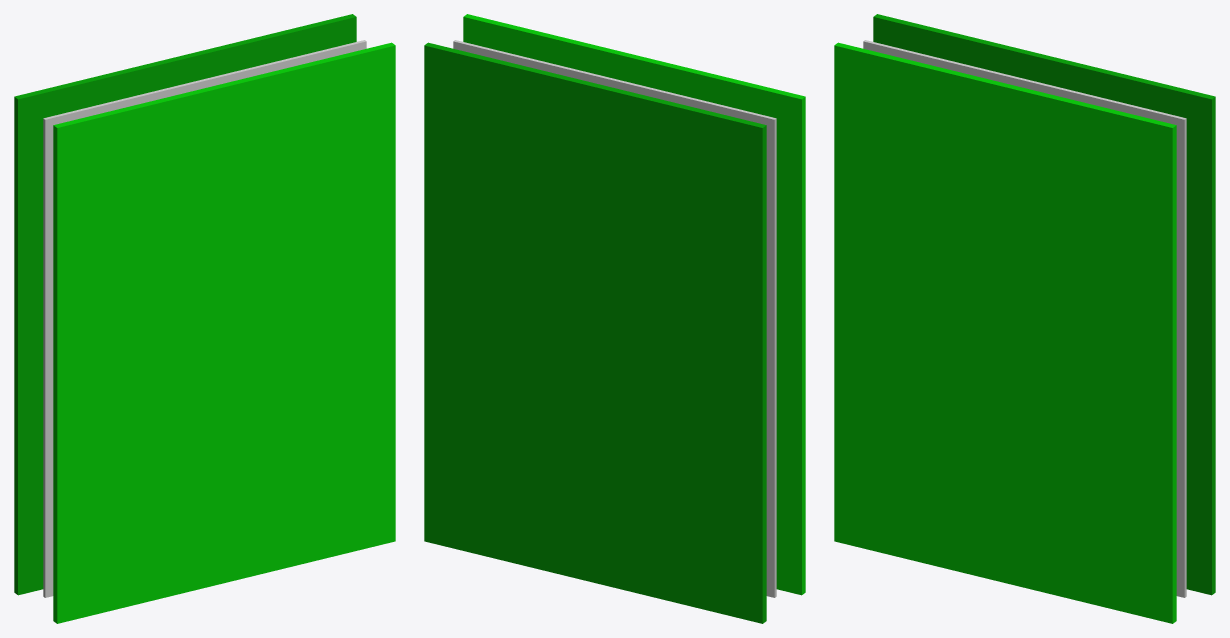
The model's file is book_model.glb.
3 renders of one model, left to right at view 1: azimuth 30°, elevation 25°; view 2: azimuth 150°, elevation 25°; view 3: azimuth 330°, elevation 25°, orthographic.
Visible parts, largest first — view 1: CoverFront, CoverBack, Pages; view 2: CoverBack, CoverFront, Pages; view 3: CoverFront, CoverBack, Pages.
Boxes of the visible parts, x1=… form: CoverFront: x1=53, y1=42, x2=395, y2=623; CoverBack: x1=14, y1=14, x2=356, y2=595; Pages: x1=43, y1=40, x2=366, y2=597; CoverBack: x1=424, y1=42, x2=766, y2=623; CoverFront: x1=463, y1=14, x2=805, y2=595; Pages: x1=453, y1=40, x2=776, y2=597; CoverFront: x1=834, y1=42, x2=1176, y2=623; CoverBack: x1=873, y1=14, x2=1215, y2=595; Pages: x1=863, y1=40, x2=1186, y2=597.
Size of the model in its own units: 1 by 1.4 by 0.22.
